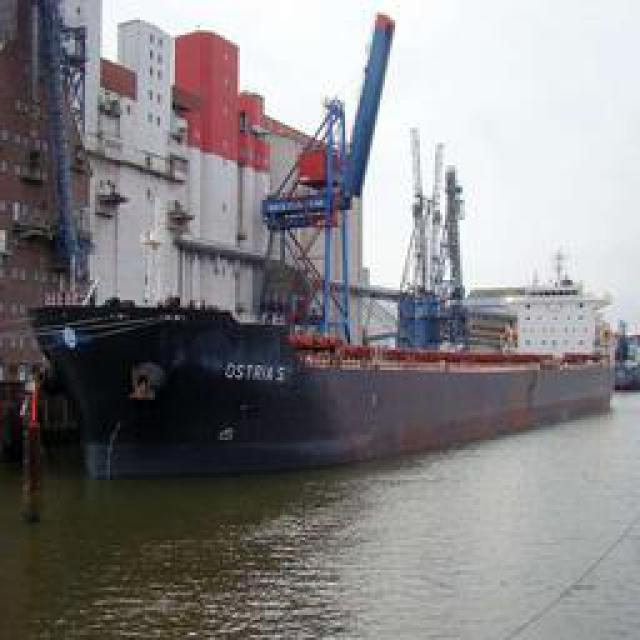Ship: (22, 24, 610, 494)
